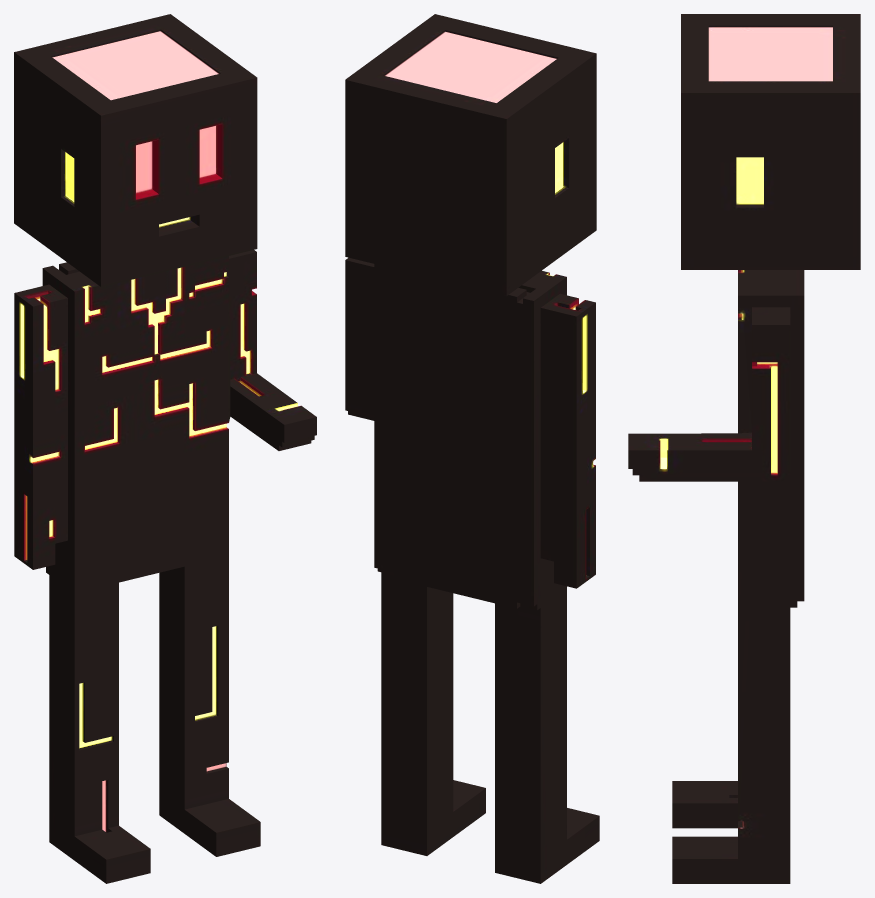
The model's file is vulcan.glb.
3 renders of one model, left to right at view 1: azimuth 30°, elevation 25°; view 2: azimuth 150°, elevation 25°; view 3: azimuth 270°, elevation 25°, orthographic. The views are drawn at different scales.
Visible parts, largest first — view 1: vulcan.001; view 2: vulcan.001; view 3: vulcan.001.
Part boxes in pixels (x1,y1,x2,y2): vulcan.001: [14, 14, 316, 883]; vulcan.001: [345, 14, 599, 883]; vulcan.001: [628, 14, 860, 883].
Bounding box in the file's own units: 3.87 × 12.63 × 3.36.
Materials: 1 (1 with a texture image).
